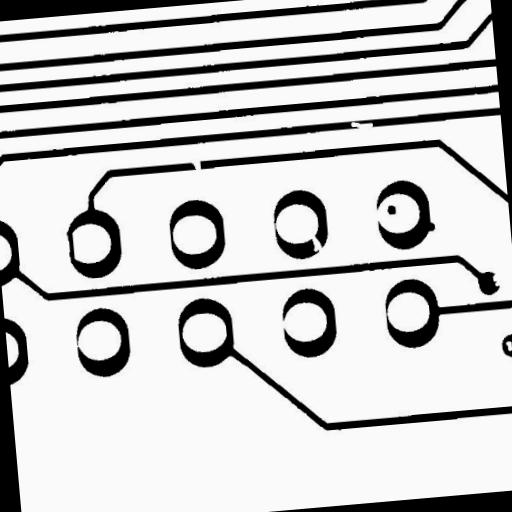copper: (379, 196, 404, 222)
mousebite: (342, 112, 382, 137), (484, 263, 510, 294)
open: (301, 224, 333, 266), (182, 150, 209, 182)
pin-hole: (497, 332, 512, 359)
short: (58, 222, 83, 272)
spur: (417, 212, 443, 239)
